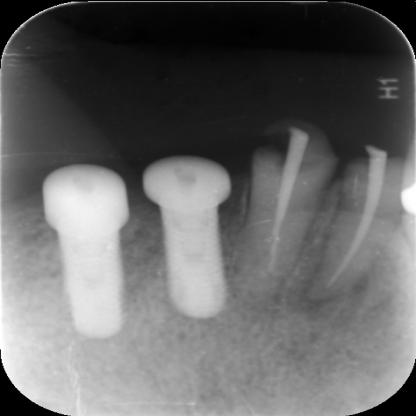Bego: (150, 198, 233, 324), (53, 227, 131, 353)
